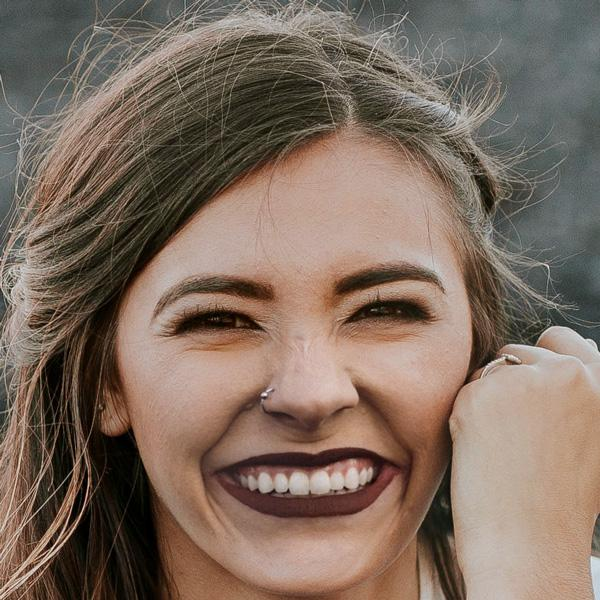Eyes: (156, 294, 274, 354), (329, 279, 445, 340)
